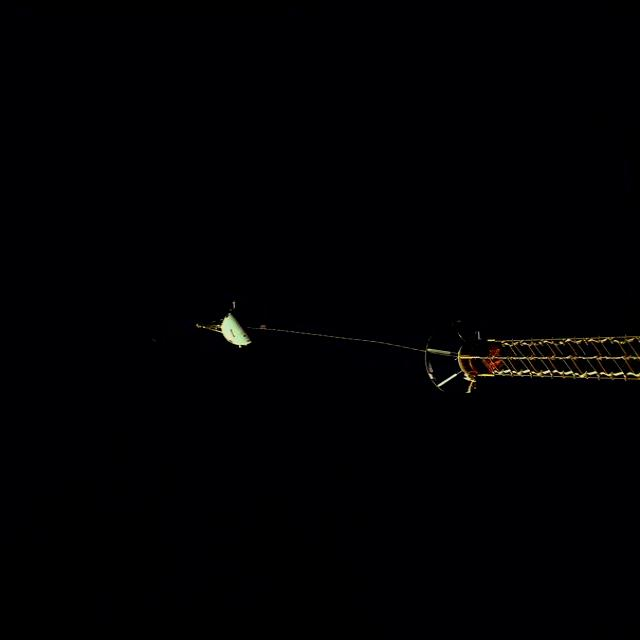medium_debris: (193, 300, 640, 393)
